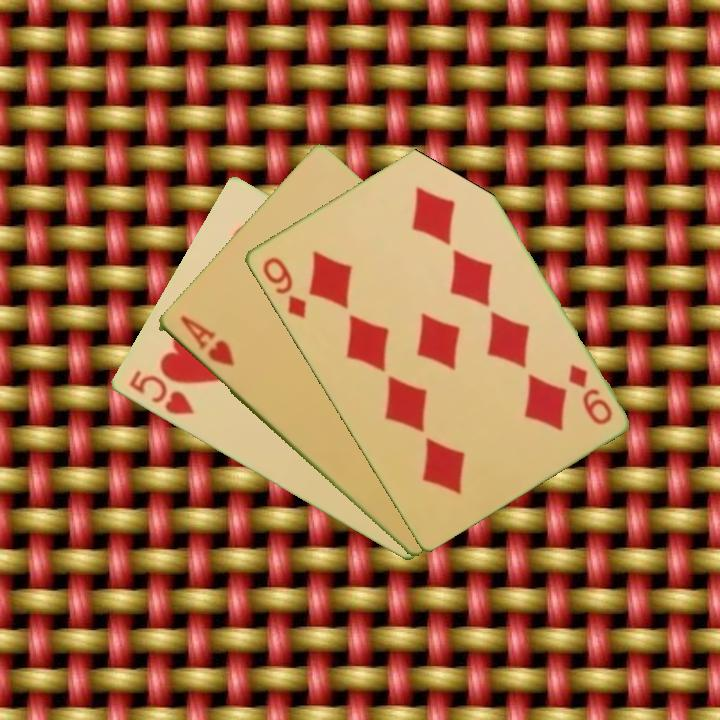5h: (125, 367, 197, 418)
9d: (258, 253, 309, 321), (564, 361, 615, 428)
Ah: (175, 312, 237, 370)
